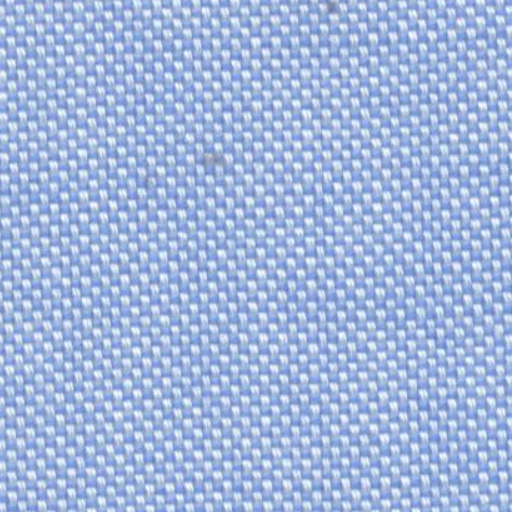WuZi: (192, 138, 236, 172), (320, 2, 356, 39)
